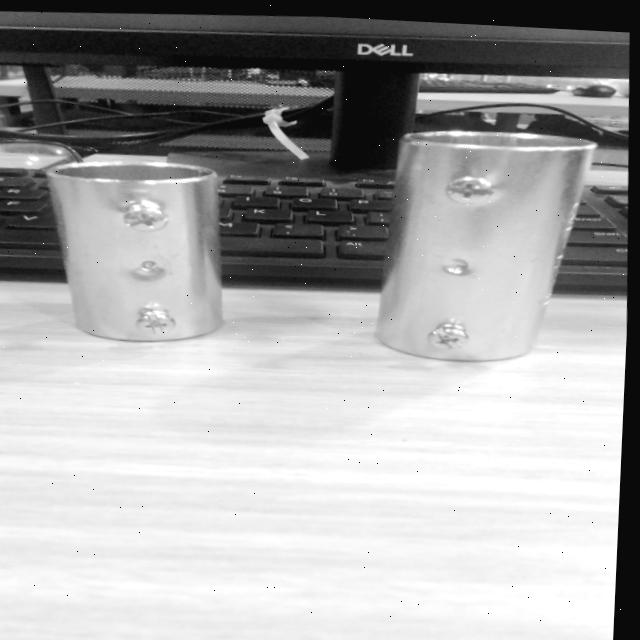Co_Lon: (373, 116, 596, 376)
Co_Nho: (47, 156, 223, 345)
